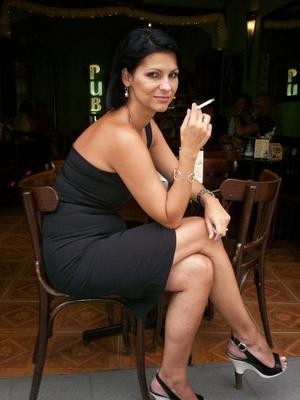person: (44, 24, 287, 400)
